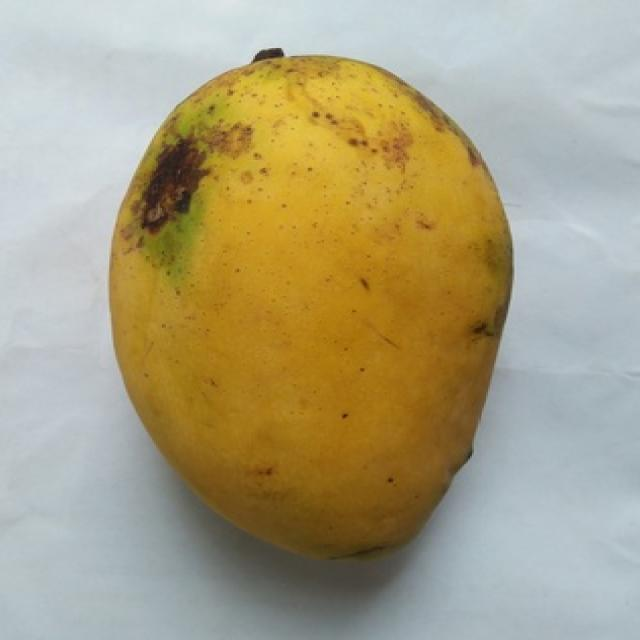Mango: (111, 56, 510, 557)
